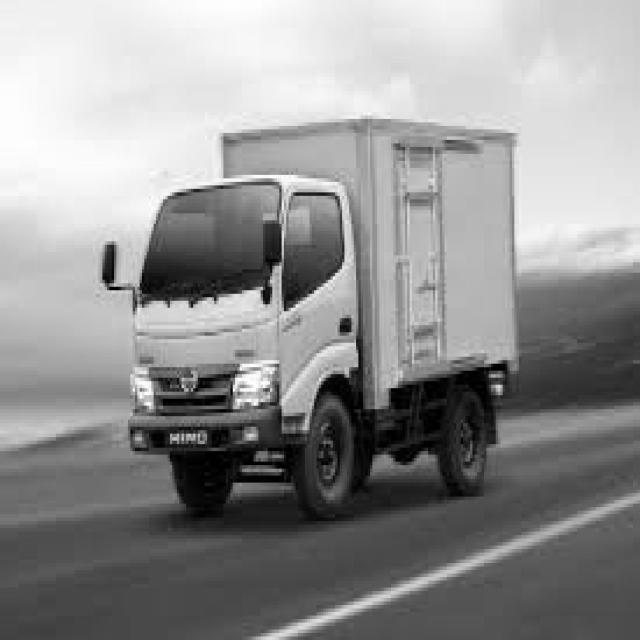truck: (96, 144, 382, 528)
